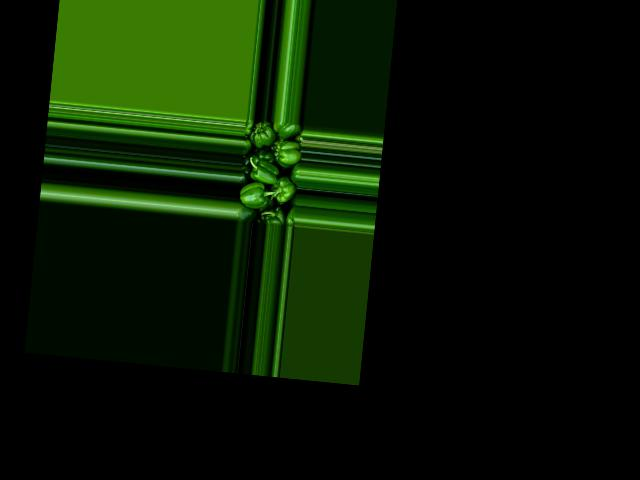bell_pepper: (236, 198, 257, 223)
